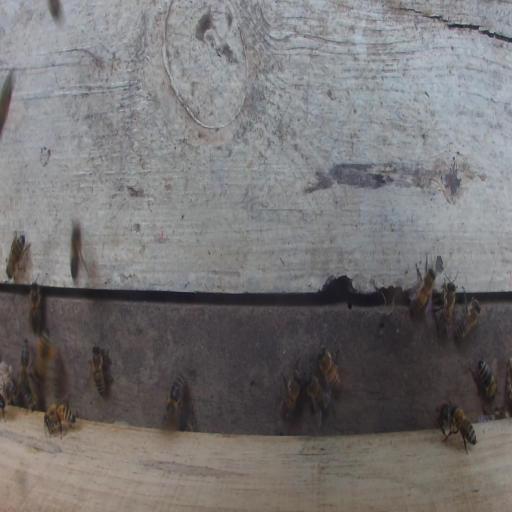nonpollenbee: (428, 270, 458, 339), (440, 404, 479, 454), (408, 263, 436, 317), (305, 371, 330, 428), (89, 343, 114, 398), (316, 344, 343, 393), (280, 359, 302, 419), (455, 293, 481, 342), (162, 375, 186, 428), (5, 230, 29, 282), (43, 402, 76, 439), (70, 219, 89, 281), (477, 357, 498, 399), (1, 70, 13, 134), (29, 278, 42, 335), (18, 336, 30, 391), (437, 396, 452, 435), (48, 1, 66, 26), (0, 394, 6, 423)
pollenbee: (34, 326, 56, 384)
